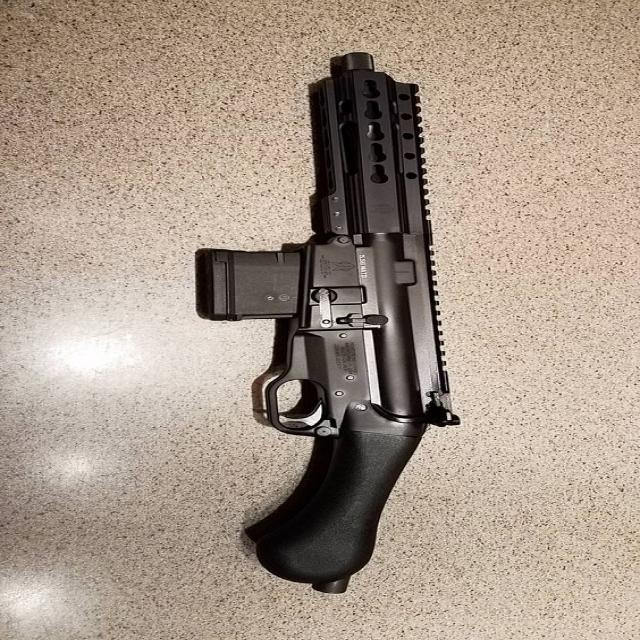shotgun: (210, 46, 440, 596)
